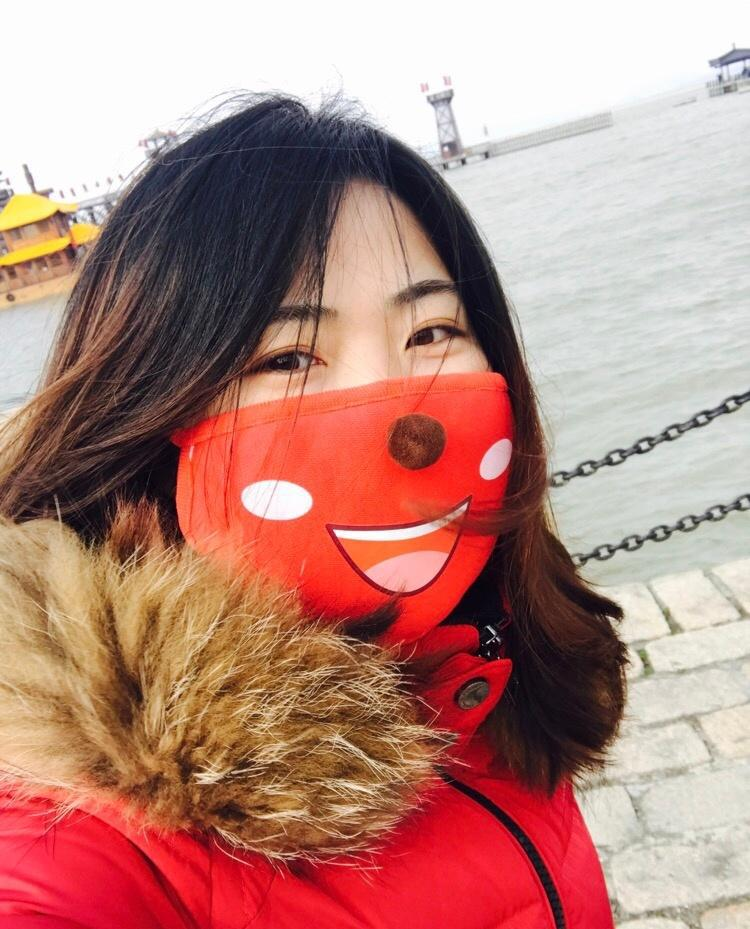OK: (172, 258, 542, 628)
